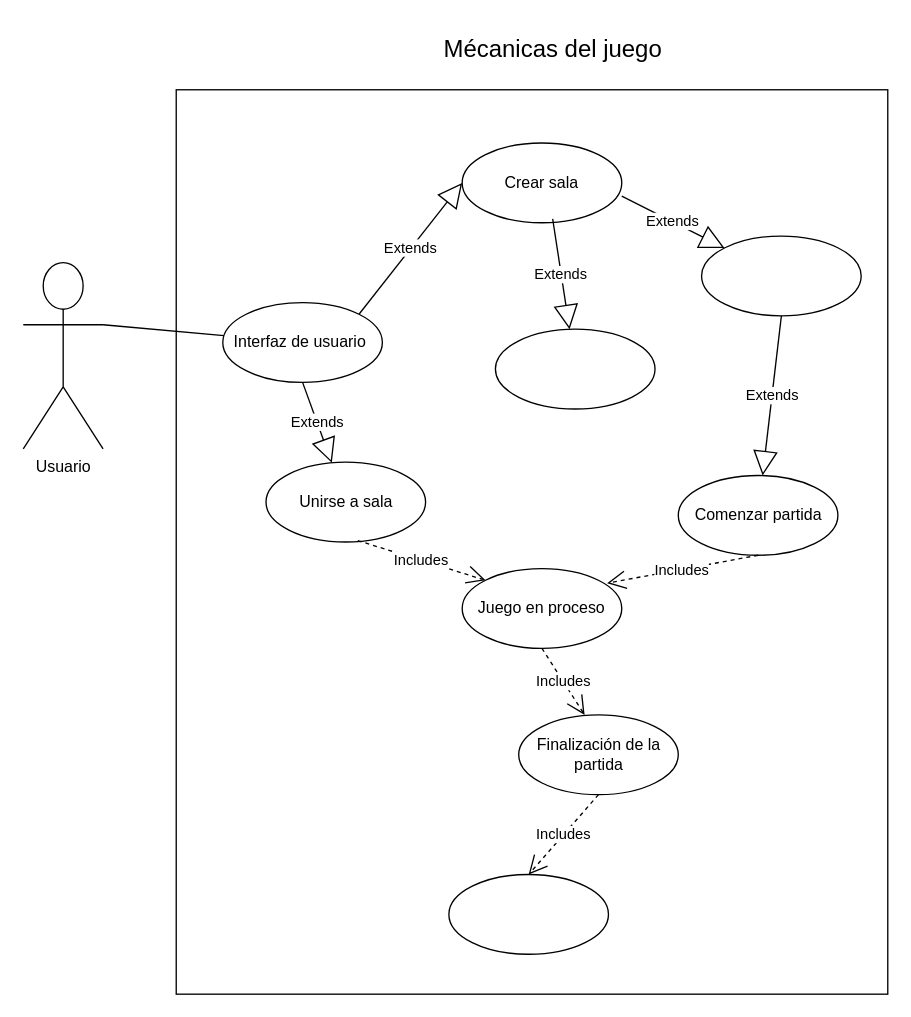
The diagram is 911 pixels wide and 1017 high, and some of its shapes have lost their labels. Each missing label, with the centre of its shape:
Esperar jugadores: (x=780, y=275)
Modificar opciónes de la sala: (x=574, y=368)
Realización de la tabla ranking: (x=528, y=913)
